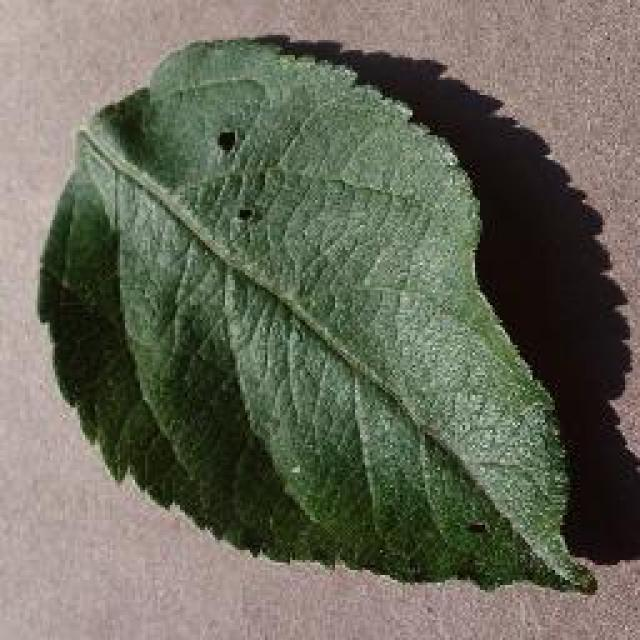apple healthy: (35, 32, 600, 592)
